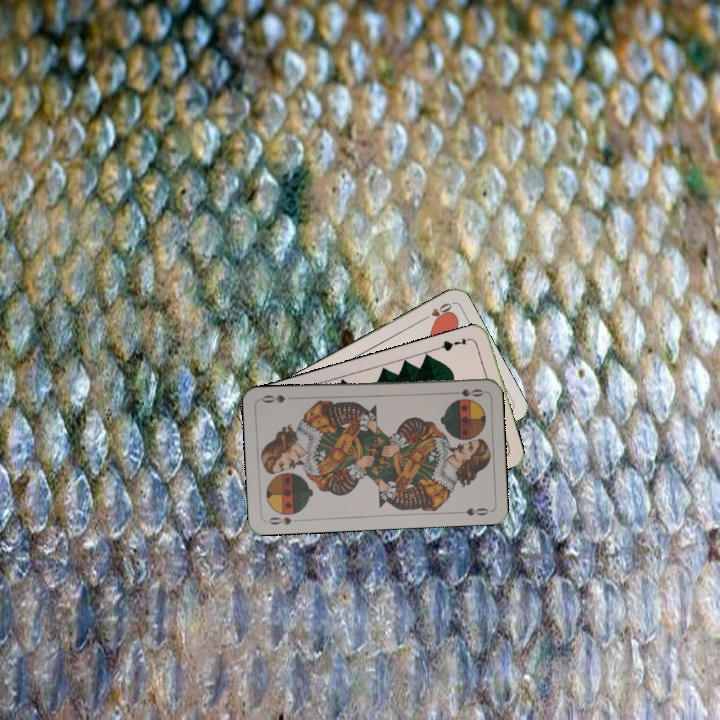G7: (434, 334, 474, 354)
HO: (417, 299, 455, 324)
SO: (446, 385, 486, 399), (265, 513, 303, 527)
